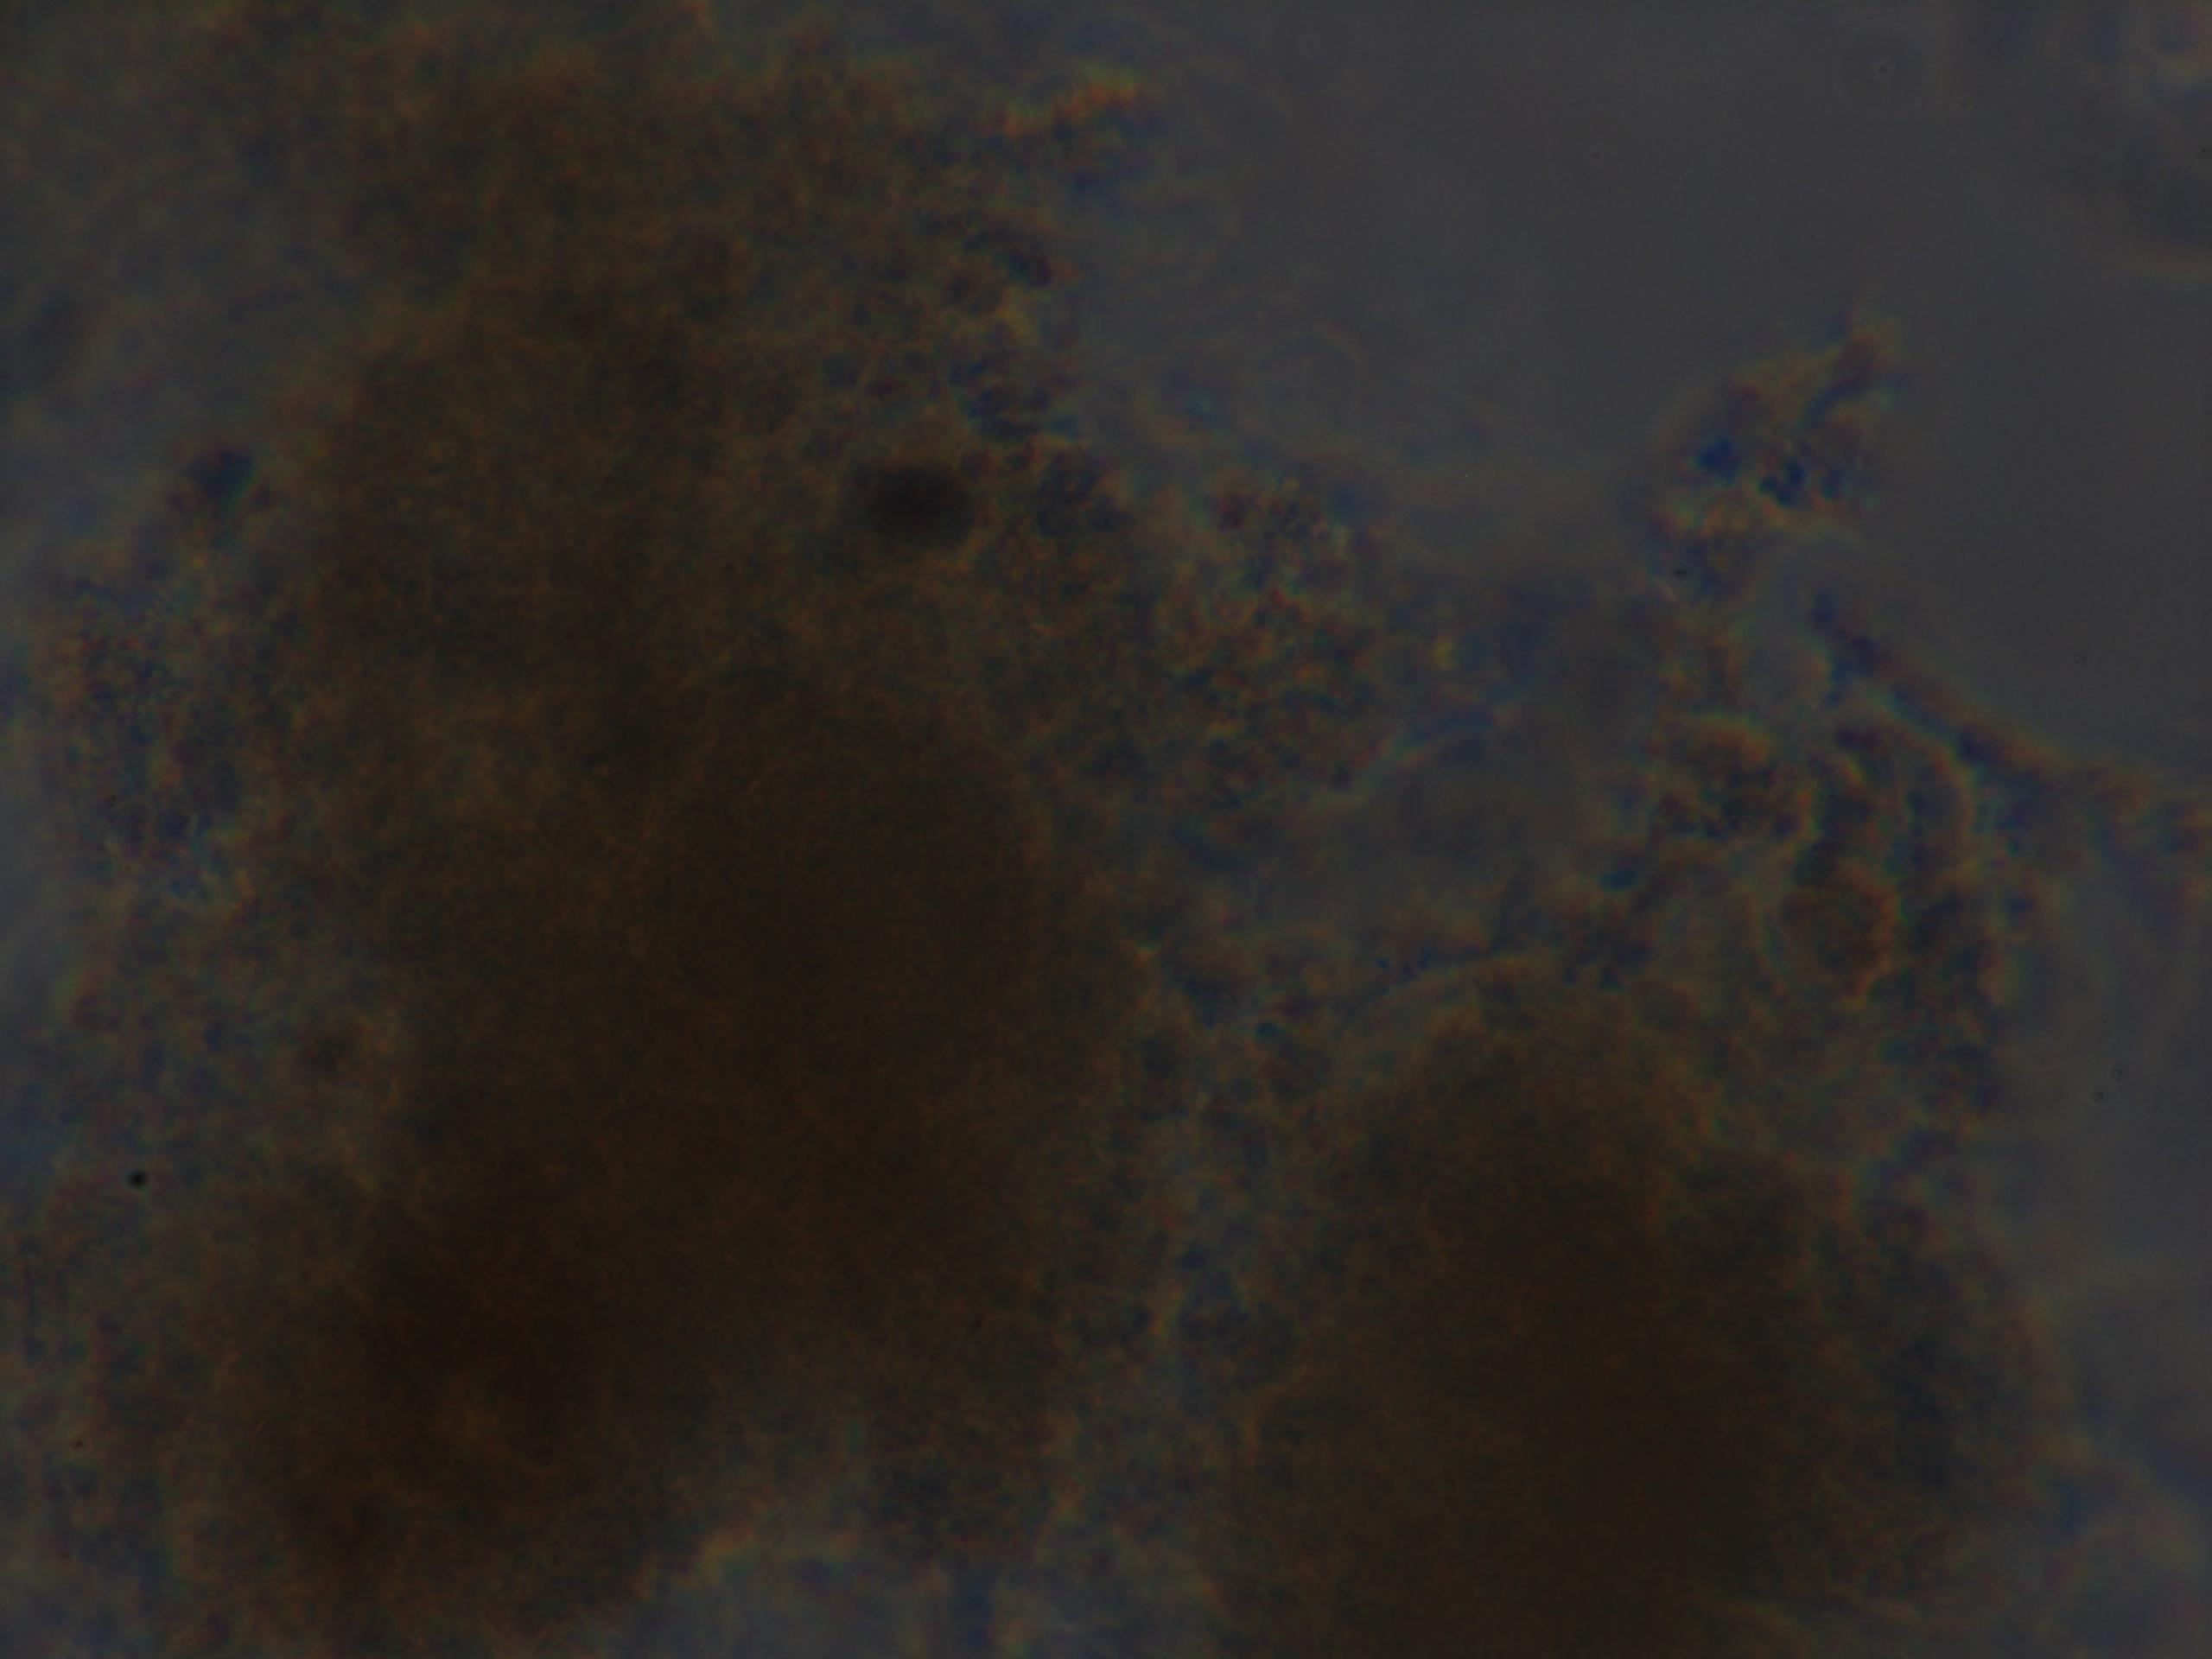spherical_floc: (120, 200, 1167, 1659), (1202, 1016, 2003, 1659)
